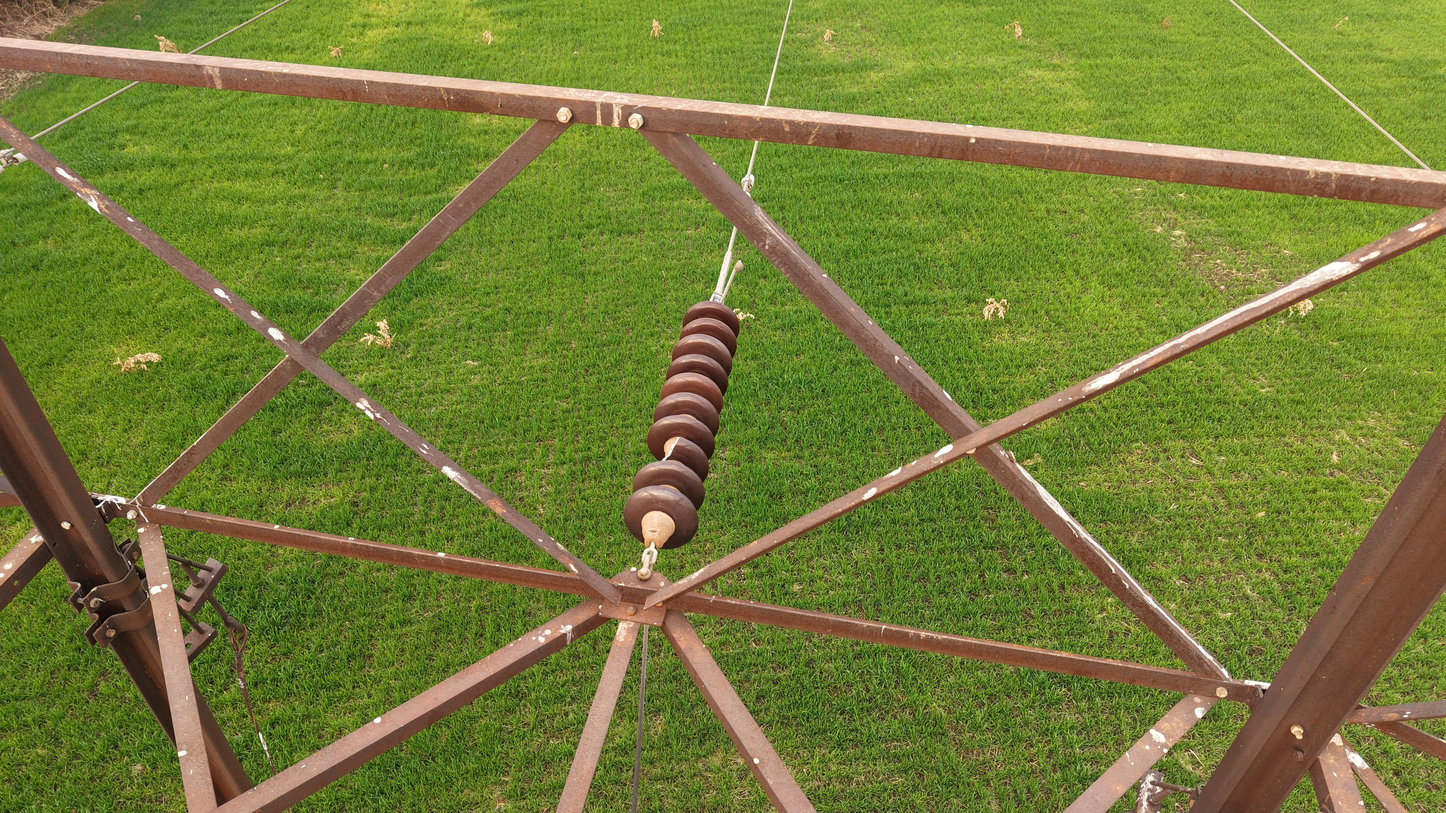broken_insulator: (643, 431, 721, 470)
